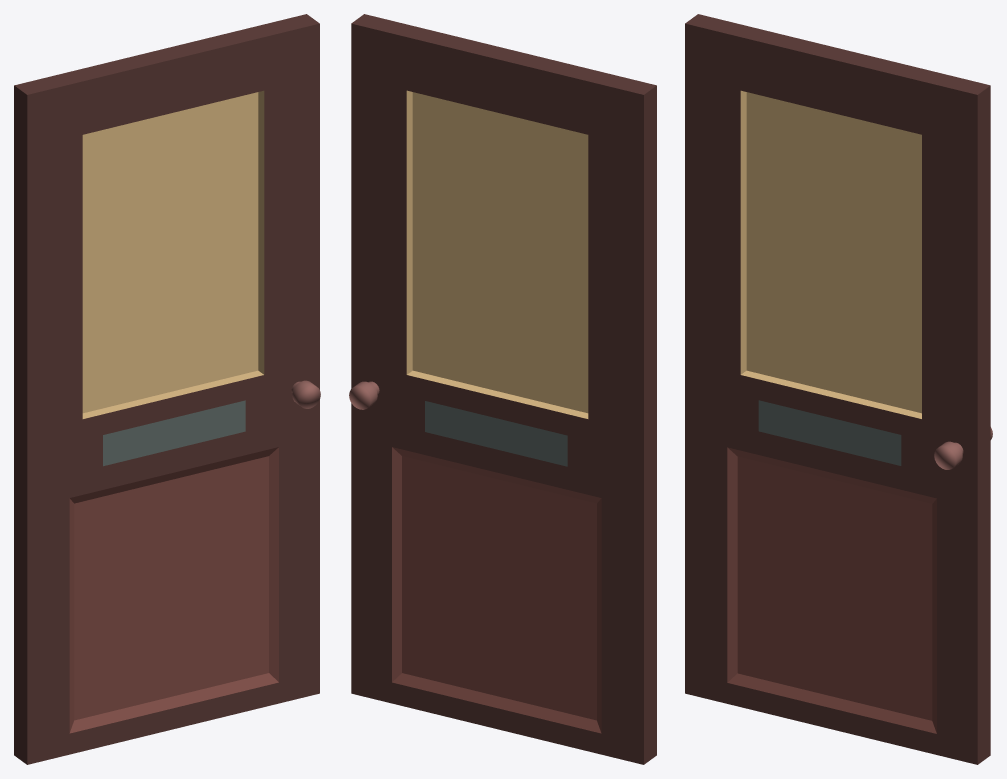
Rendered from door windowed.fbx.
3 renders of one model, left to right at view 1: azimuth 30°, elevation 25°; view 2: azimuth 150°, elevation 25°; view 3: azimuth 330°, elevation 25°, orthographic.
Visible parts, largest first — view 1: doors_windowed; view 2: doors_windowed; view 3: doors_windowed.
Boxes of the visible parts, bbox=[...] form: doors_windowed: bbox=[14, 14, 320, 764]; doors_windowed: bbox=[349, 14, 656, 764]; doors_windowed: bbox=[685, 14, 992, 764].
Bounding box in the file's own units: 0.62 × 1.36 × 0.1344.
